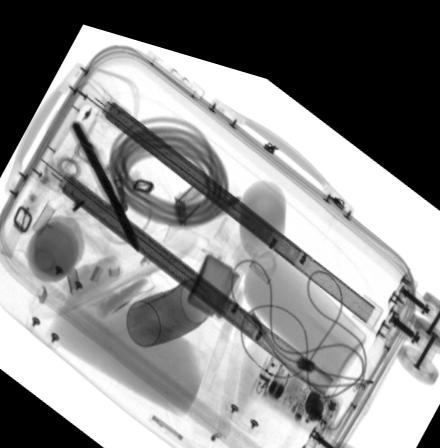Pliers: (69, 116, 139, 242)
